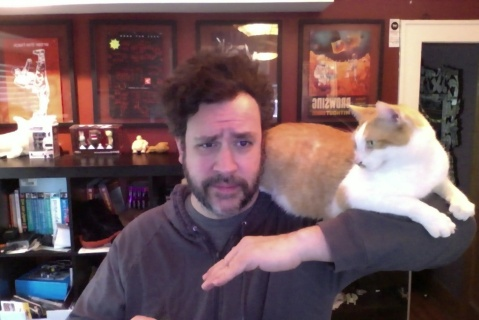Cat: (182, 96, 475, 238)
